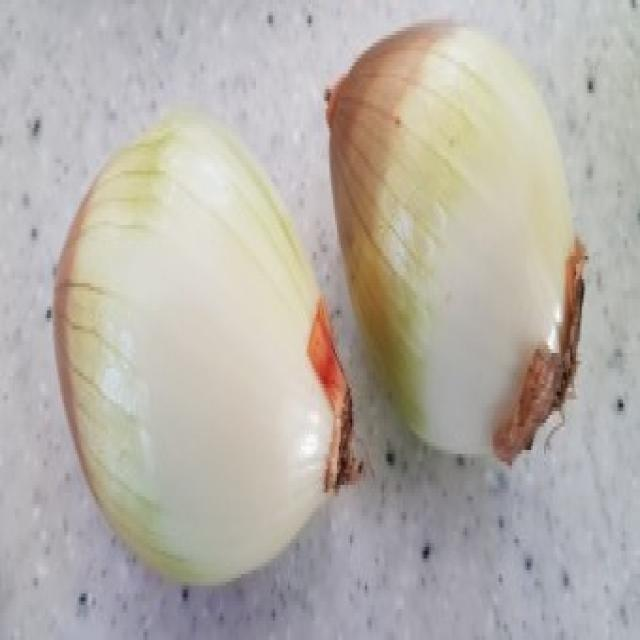onion: (34, 98, 362, 563), (309, 18, 589, 464)
